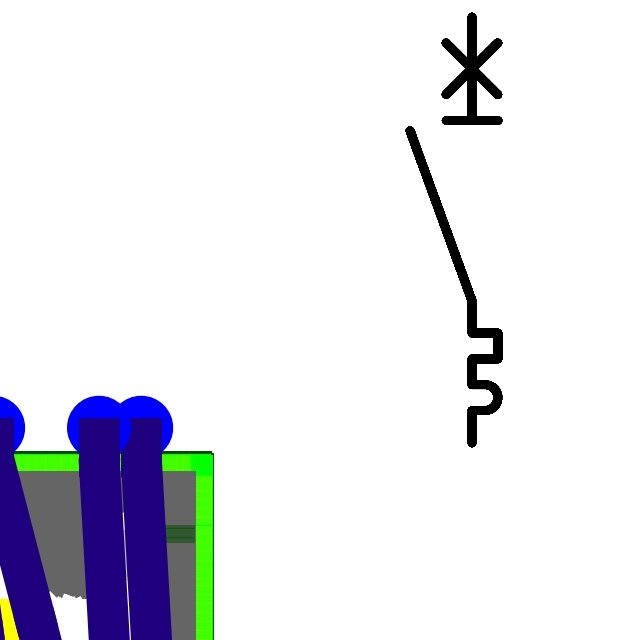interruptor_termomagnetico: (399, 6, 509, 454)
